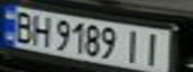1: (66, 20, 84, 55)
8: (81, 21, 103, 57)
9: (96, 25, 121, 61), (48, 17, 72, 52)
B: (6, 8, 39, 44)
H: (27, 12, 54, 47)
I: (139, 29, 169, 66), (121, 27, 148, 65)
